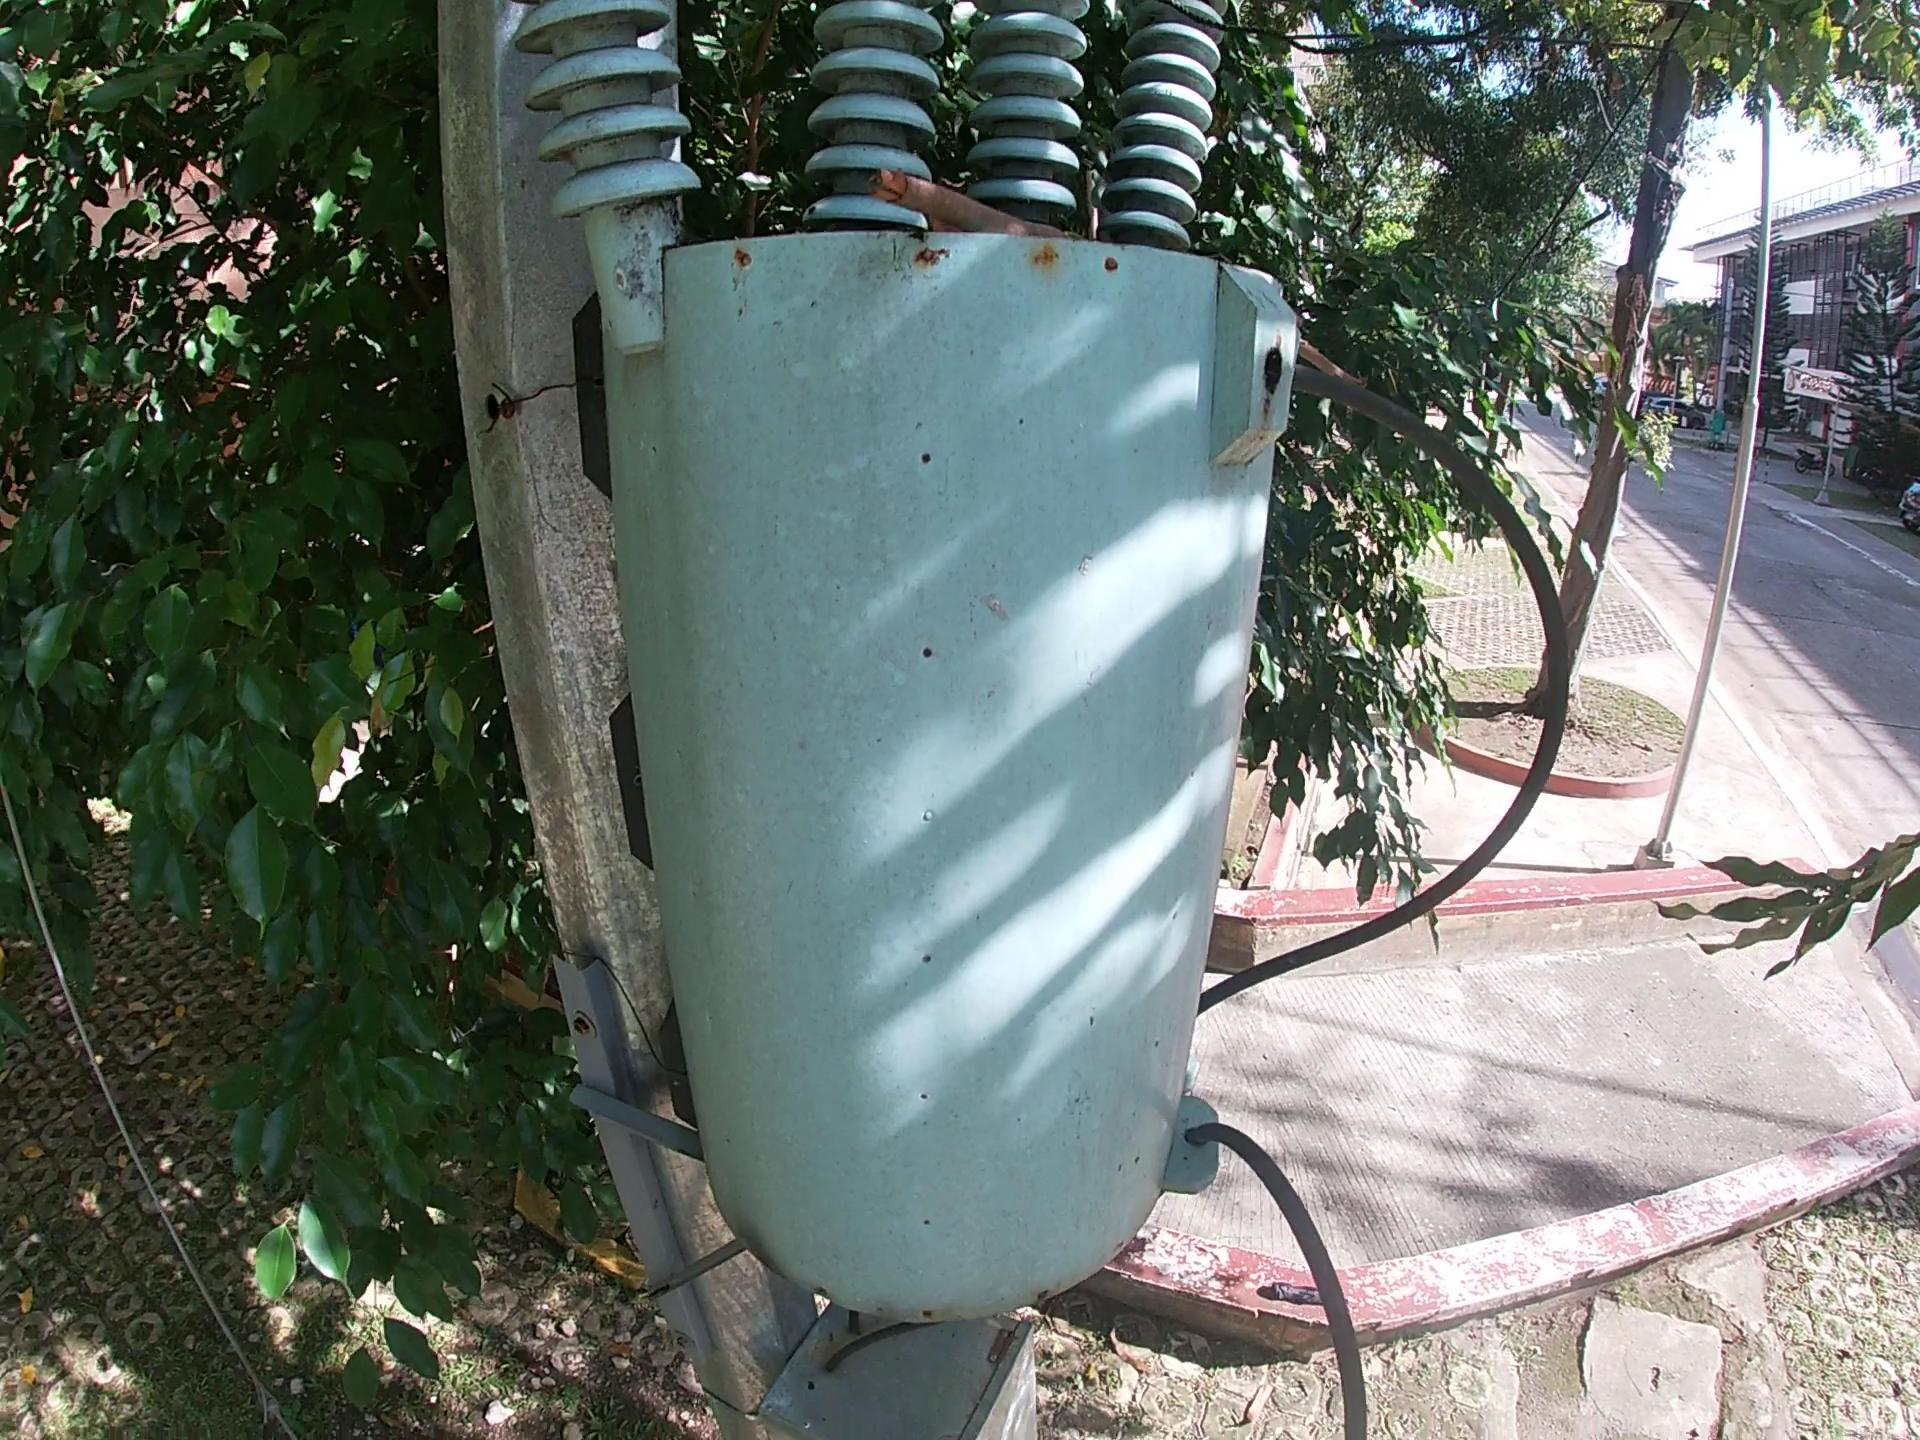tree branch: (868, 166, 1082, 244), (1296, 334, 1368, 386)
